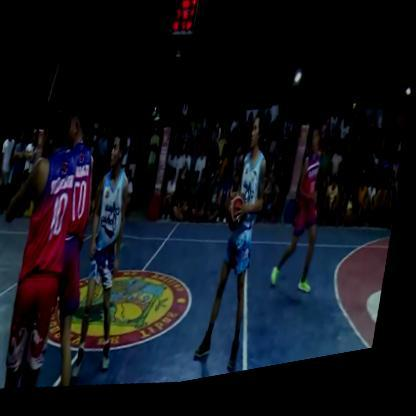basketball: (223, 198, 248, 247)
